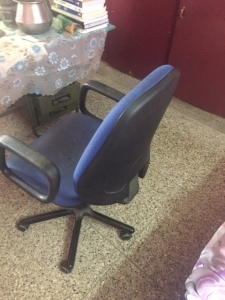chair: (1, 64, 182, 275)
